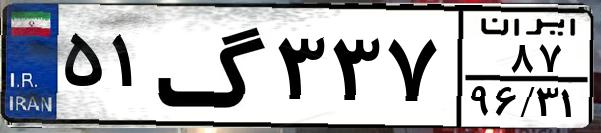1: (110, 28, 156, 98), (560, 70, 590, 125)
3: (270, 28, 330, 110), (330, 28, 385, 110), (535, 70, 560, 125)
5: (57, 26, 110, 100)
6: (495, 70, 520, 125)
7: (385, 28, 445, 110), (537, 27, 568, 80)
8: (508, 27, 537, 80)
9: (470, 70, 495, 125)
گ: (156, 12, 270, 120)
